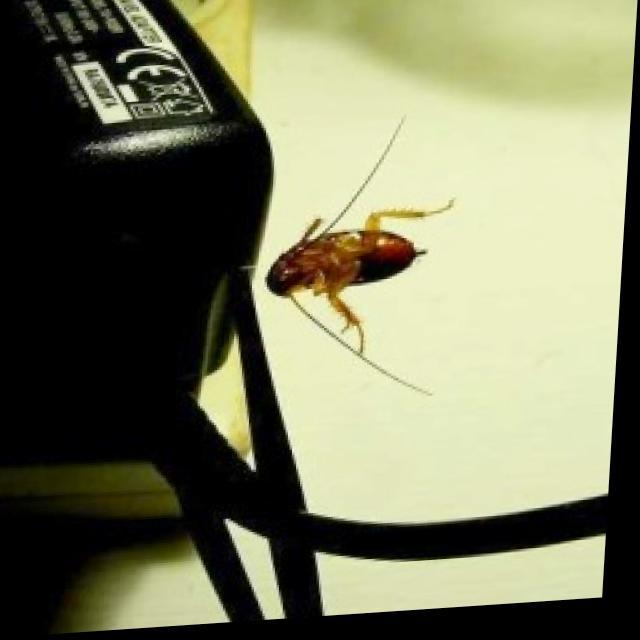cockroach: (264, 164, 440, 374)
